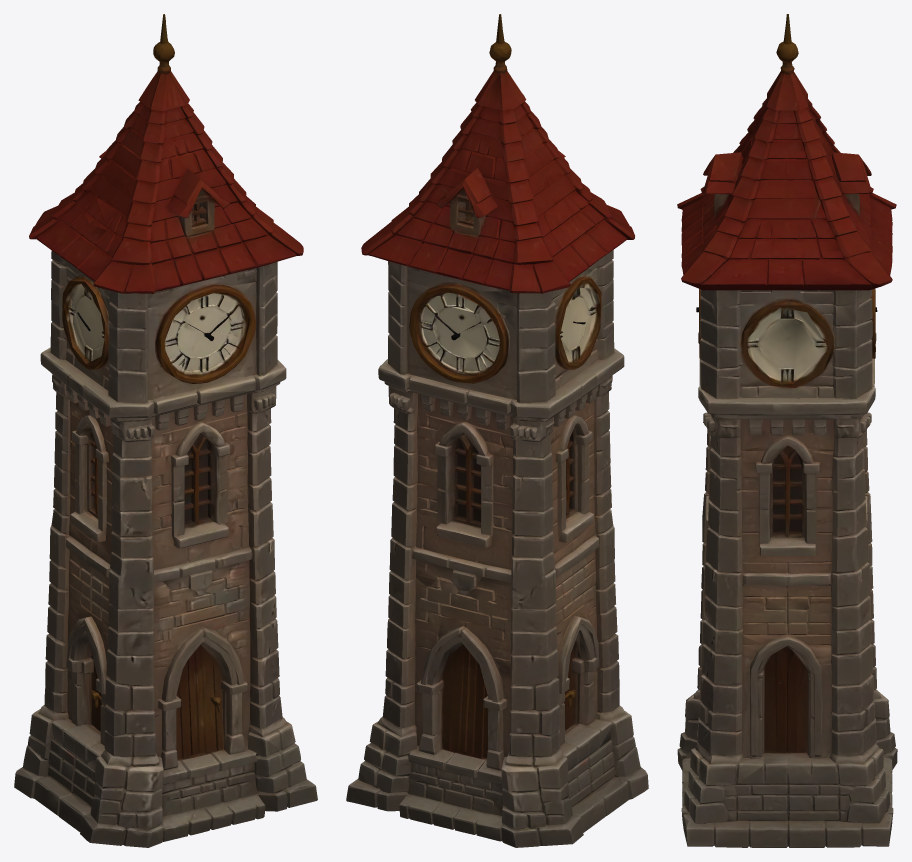
3 renders of one model, left to right at view 1: azimuth 30°, elevation 25°; view 2: azimuth 150°, elevation 25°; view 3: azimuth 270°, elevation 25°, orthographic.
Visible parts, largest first — view 1: model; view 2: model; view 3: model.
Boxes of the visible parts, x1,y1,x2,y2 form: model: [14, 14, 317, 847]; model: [346, 14, 648, 847]; model: [677, 14, 897, 847].
Size of the model in its own units: 0.5503 by 1.9 by 0.4826.
Materials: 1 (1 with a texture image).
